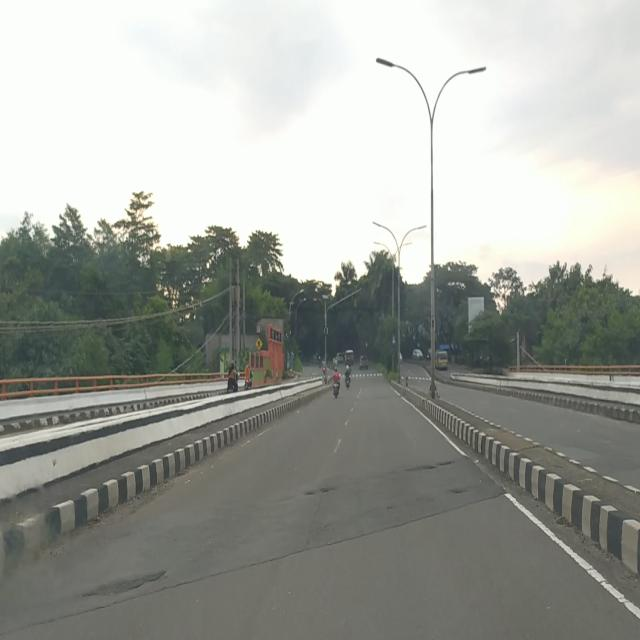Sewer Cover: (293, 456, 460, 500), (69, 570, 169, 599)
